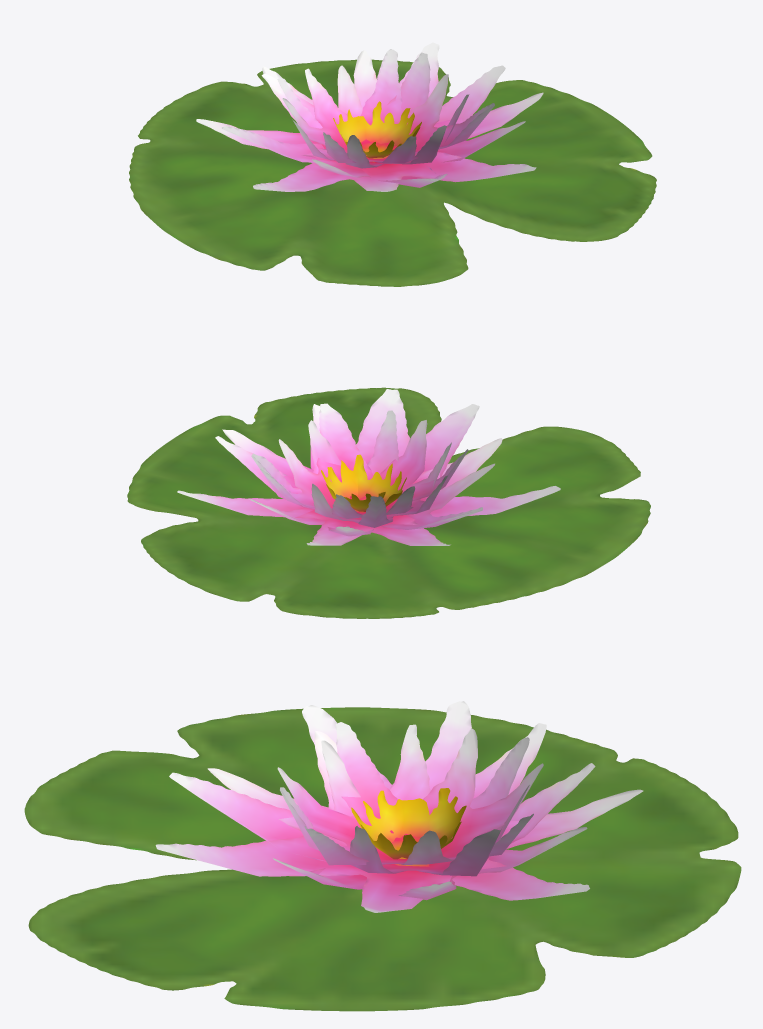
File: P_LilyPad3.obj
The picture shows the model from 3 angles, top to bottom: view 1: azimuth 30°, elevation 25°; view 2: azimuth 150°, elevation 25°; view 3: azimuth 270°, elevation 25°; orthographic projection. The views are drawn at different scales.
Size of the model in its own units: 0.7911 by 0.1109 by 0.7859.
